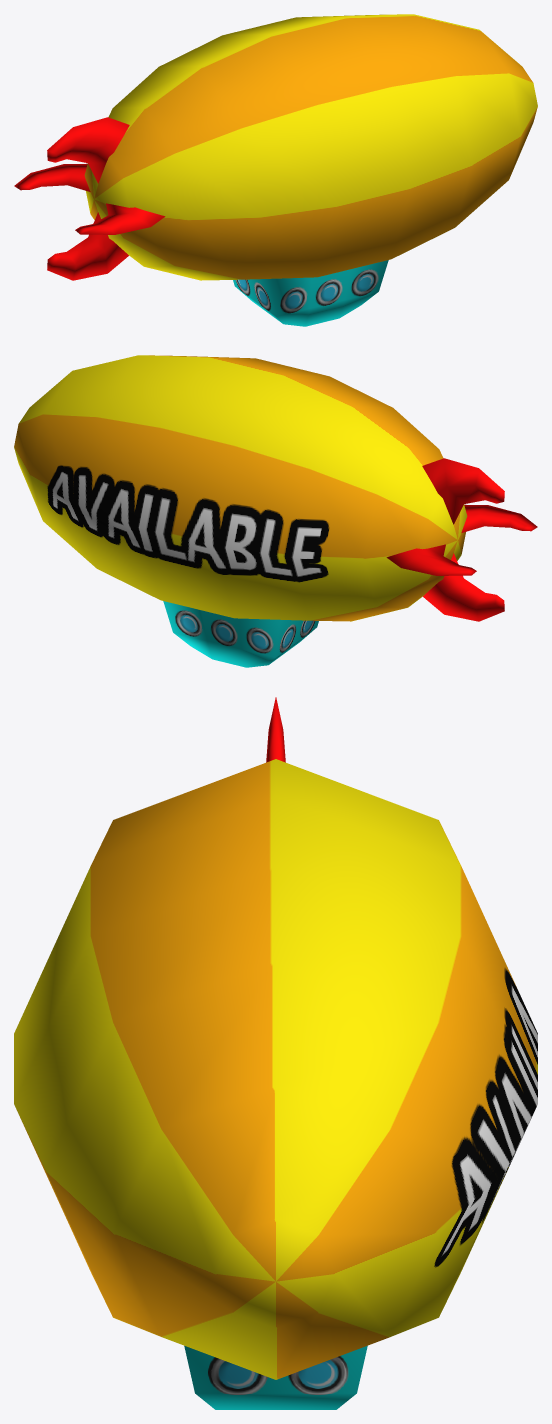
File: Zeppelin.fbx
3 views of the same model, one above another, from view 1: azimuth 30°, elevation 25°; view 2: azimuth 150°, elevation 25°; view 3: azimuth 270°, elevation 25° (orthographic). The views are drawn at different scales.
Visible parts, largest first — view 1: TODOS:Zeppelin:pSphere1, TODOS:Zeppelin:Zppelin1:pCube1, TODOS:Zeppelin:pSphere3 (×2), TODOS:Zeppelin:pSphere2 (×2); view 2: TODOS:Zeppelin:pSphere1, TODOS:Zeppelin:Zppelin1:pCube1, TODOS:Zeppelin:pSphere3 (×2), TODOS:Zeppelin:pSphere2 (×2); view 3: TODOS:Zeppelin:pSphere1, TODOS:Zeppelin:Zppelin1:pCube1, TODOS:Zeppelin:pSphere3.
Part boxes in pixels (left/top/right/bottom): TODOS:Zeppelin:pSphere1: left=84, top=14, right=537, bottom=280; TODOS:Zeppelin:Zppelin1:pCube1: left=233, top=260, right=388, bottom=326; TODOS:Zeppelin:pSphere3 (×2): left=47, top=117, right=165, bottom=234; TODOS:Zeppelin:pSphere2 (×2): left=14, top=163, right=128, bottom=280; TODOS:Zeppelin:pSphere1: left=14, top=355, right=467, bottom=621; TODOS:Zeppelin:Zppelin1:pCube1: left=163, top=601, right=318, bottom=667; TODOS:Zeppelin:pSphere3 (×2): left=422, top=458, right=537, bottom=532; TODOS:Zeppelin:pSphere2 (×2): left=386, top=544, right=504, bottom=621; TODOS:Zeppelin:pSphere1: left=14, top=759, right=537, bottom=1379; TODOS:Zeppelin:Zppelin1:pCube1: left=184, top=1346, right=367, bottom=1409; TODOS:Zeppelin:pSphere3: left=266, top=697, right=285, bottom=762.
Size of the model in its own units: 47.63 by 26.9 by 22.95.
